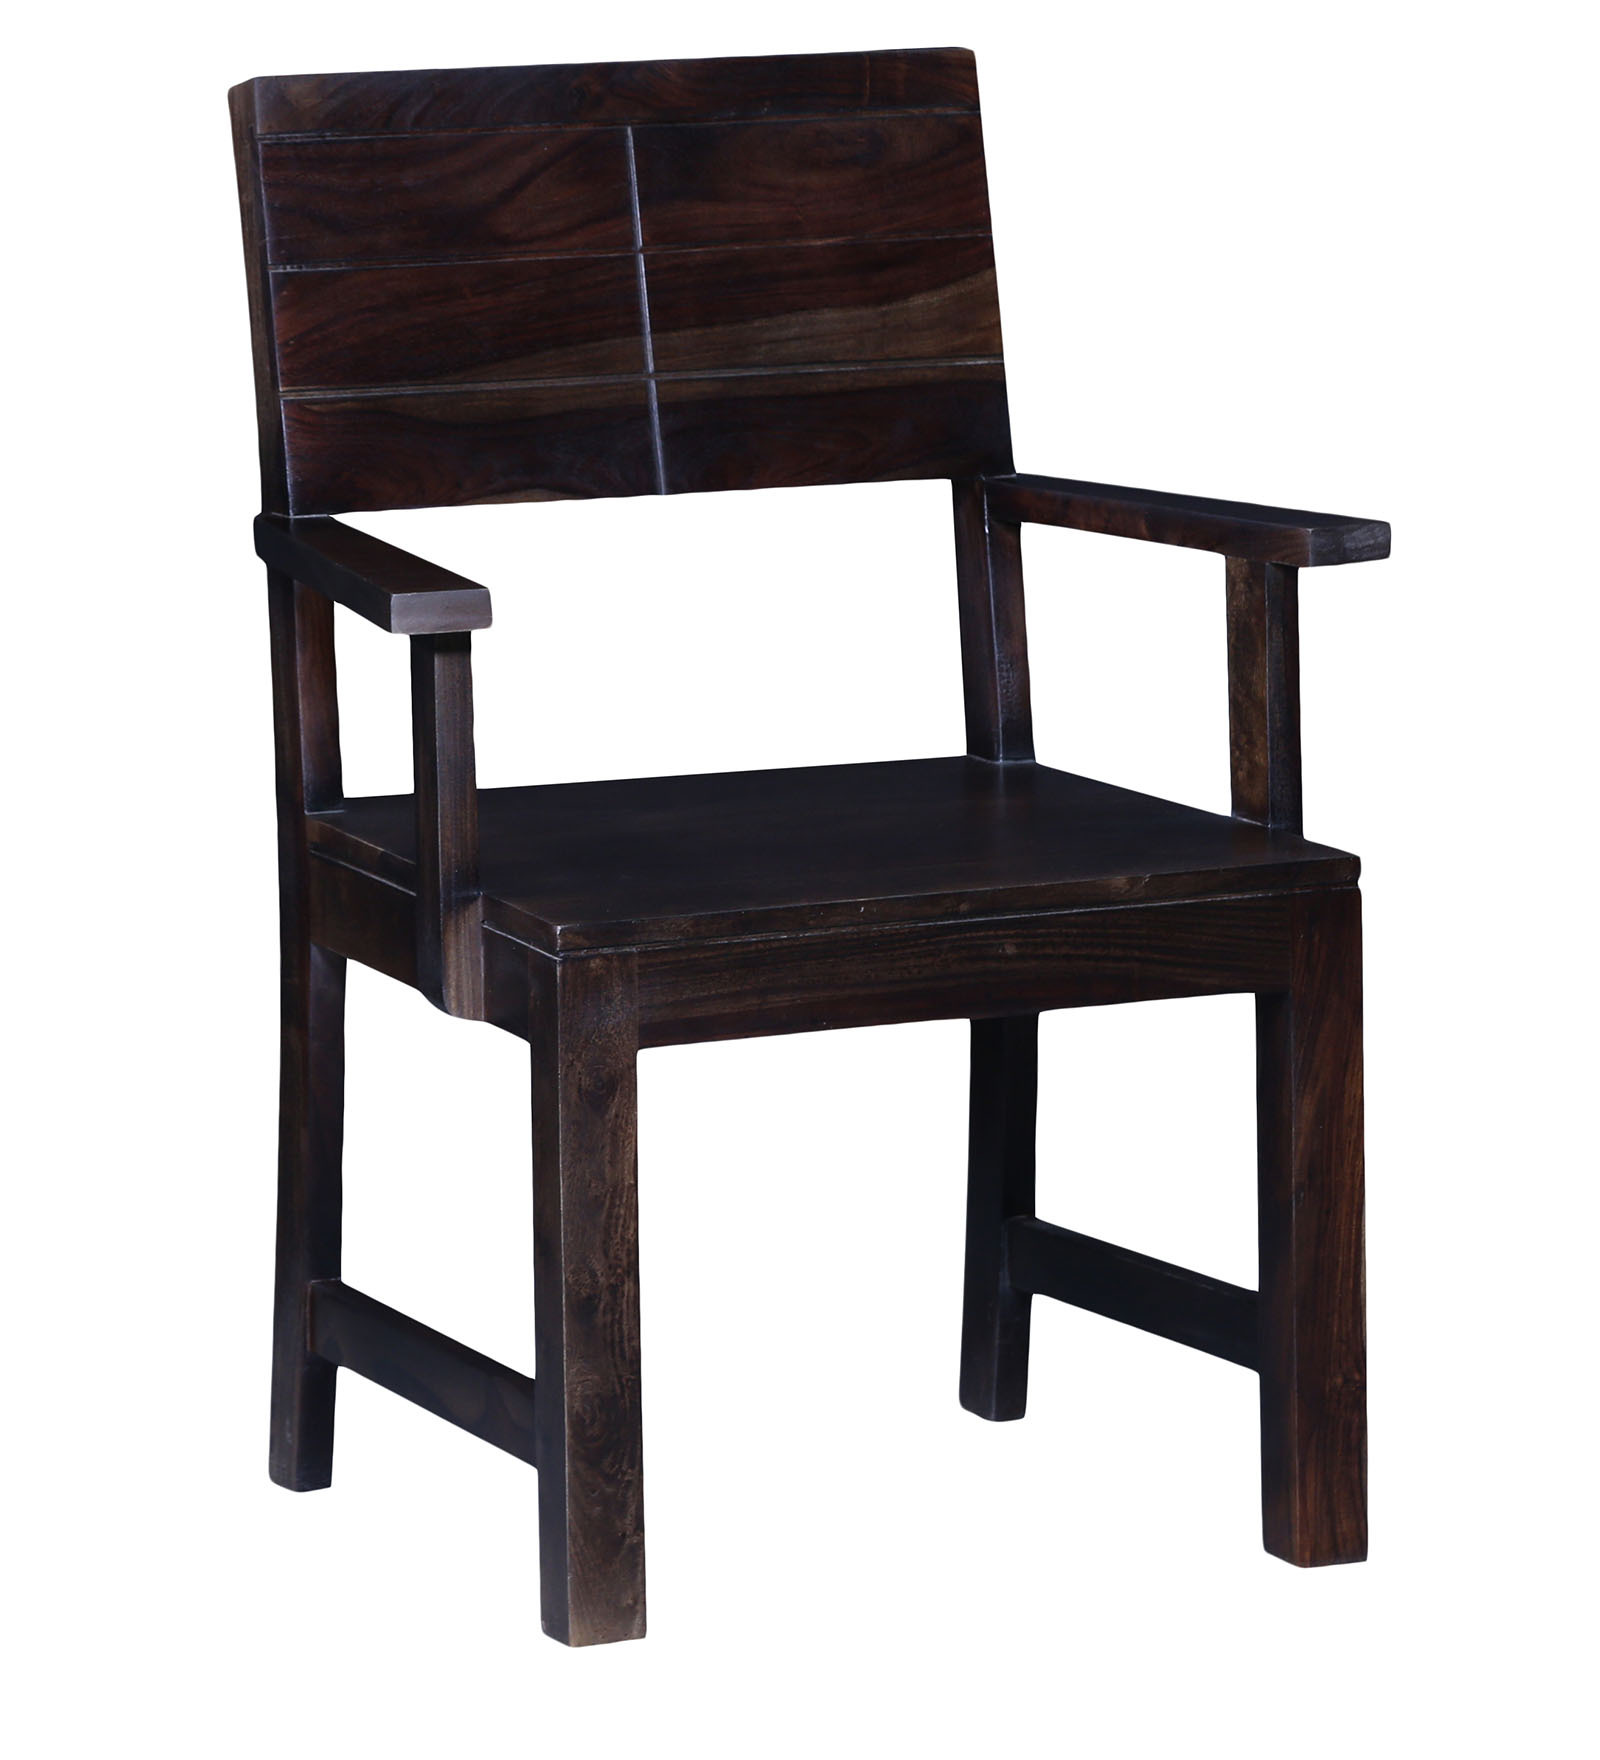Segur Arm Chair in Warm Chestnut Finish by Woodsworth: (172, 57, 1431, 1624)
